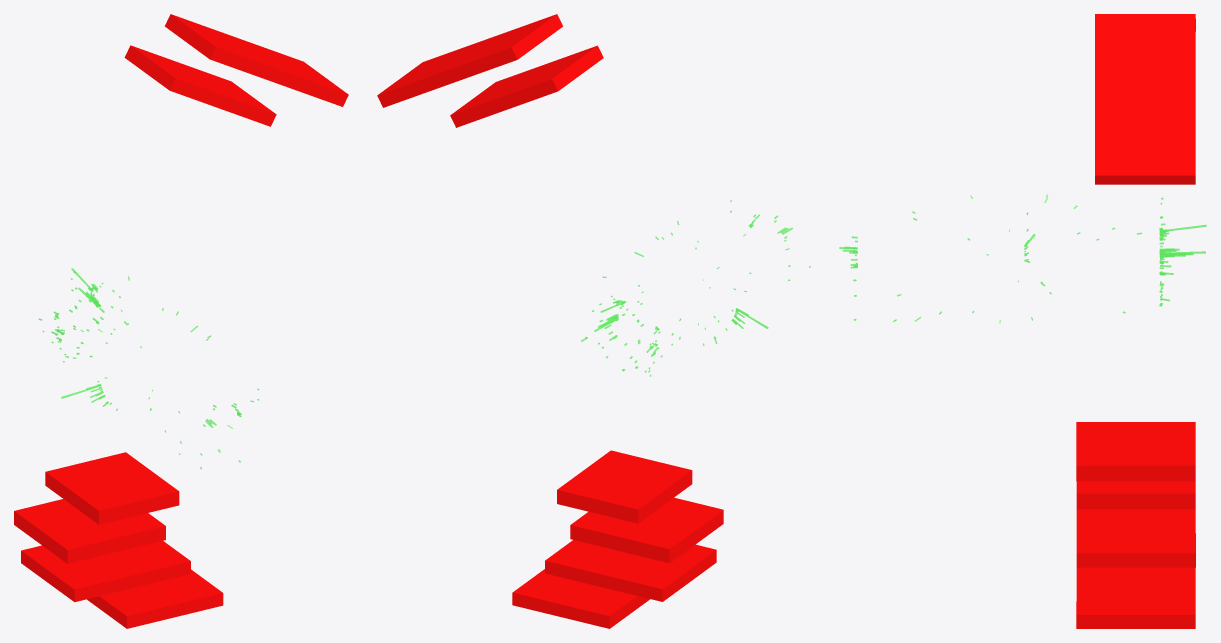
3 renders of one model, left to right at view 1: azimuth 30°, elevation 25°; view 2: azimuth 150°, elevation 25°; view 3: azimuth 270°, elevation 25°, orthographic. The views are drawn at different scales.
Visible parts, largest first — view 1: MuonChambers_V1, EERecHits_V2; view 2: MuonChambers_V1, EERecHits_V2; view 3: MuonChambers_V1, EERecHits_V2.
Boxes of the visible parts, box(x1,y1,x2,y2) form: MuonChambers_V1: box(14, 14, 348, 628); EERecHits_V2: box(38, 268, 259, 469); MuonChambers_V1: box(377, 14, 723, 628); EERecHits_V2: box(581, 200, 810, 376); MuonChambers_V1: box(1076, 14, 1195, 628); EERecHits_V2: box(839, 197, 1206, 320).
Size of what is drawn, in the model's own units: 8.54 by 14.3 by 7.74.
